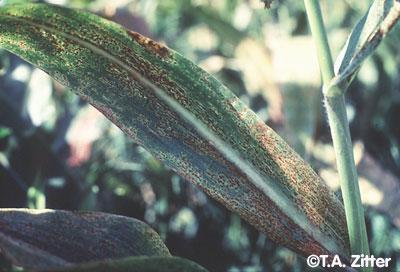Corn_Common_Rust: (198, 68, 297, 255), (0, 0, 126, 131), (1, 208, 196, 272), (126, 27, 197, 181), (298, 158, 357, 271), (339, 0, 400, 86)
